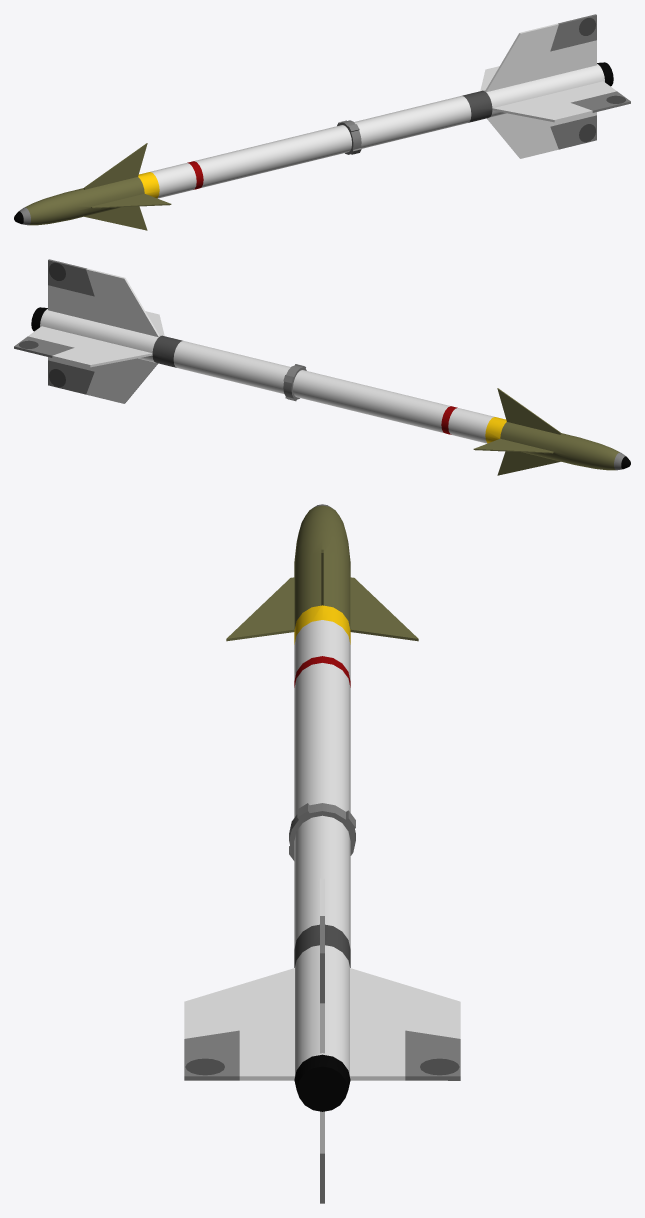
The model's file is AIM-9G.glb.
3 renders of one model, top to bottom at view 1: azimuth 30°, elevation 25°; view 2: azimuth 150°, elevation 25°; view 3: azimuth 270°, elevation 25°, orthographic. The views are drawn at different scales.
Parts seen in each view (by area): view 1: Body; view 2: Body; view 3: Body.
Part boxes in pixels (box(x1,y1,x2,y2)): Body: box(14, 14, 630, 230); Body: box(14, 259, 630, 475); Body: box(184, 504, 460, 1203).
Size of the model in its own units: 3.1 by 0.6248 by 0.6248.
1 material, 1 textured.
